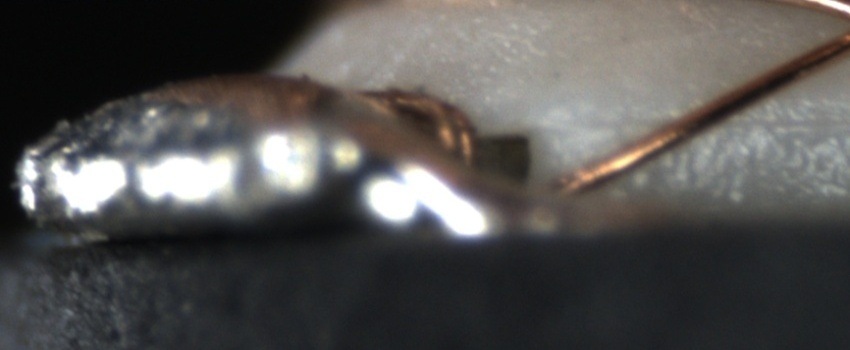DL: (554, 100, 849, 165)
TE: (376, 87, 482, 166)
